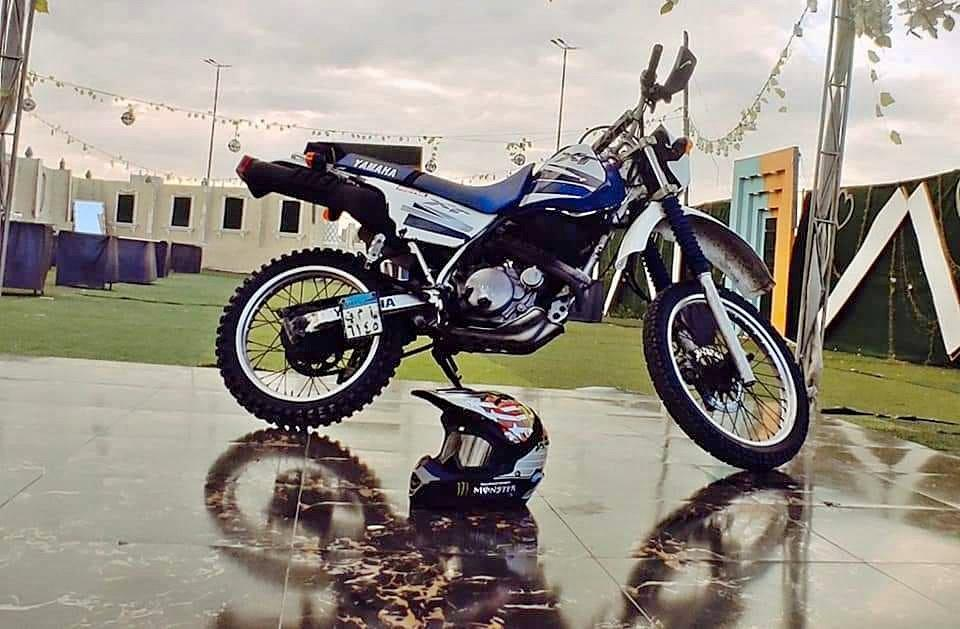License Plate: (340, 291, 383, 339)
